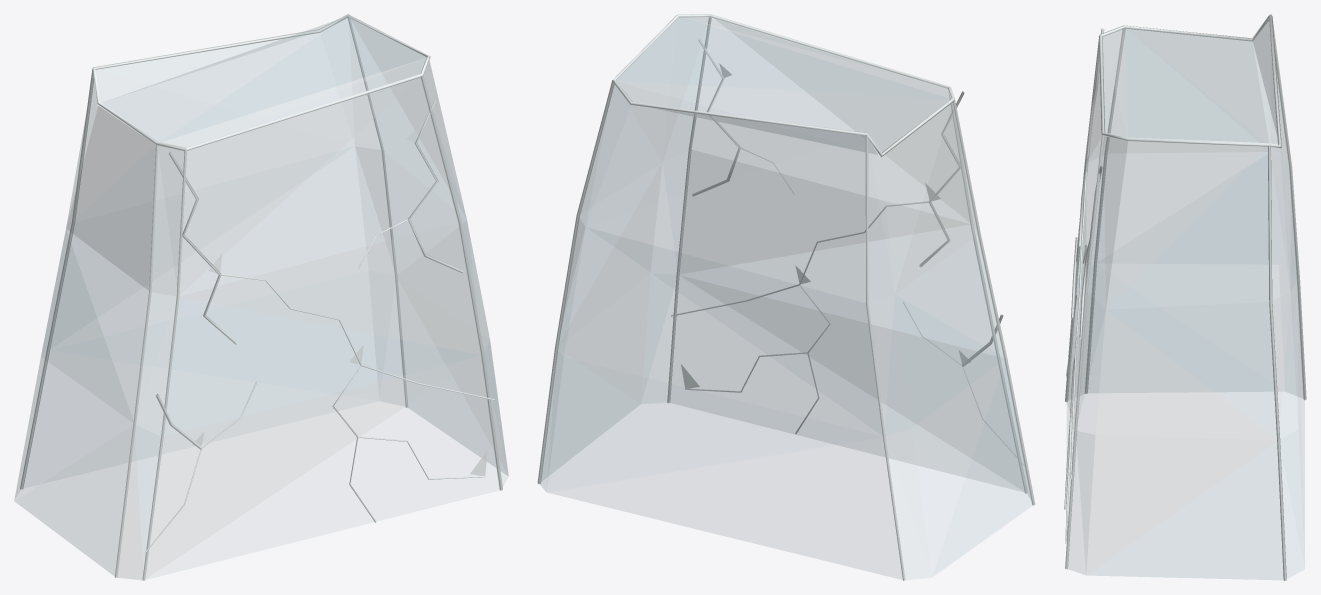
File: reference-ice.glb
3 views of the same model, side by side, from view 1: azimuth 30°, elevation 25°; view 2: azimuth 150°, elevation 25°; view 3: azimuth 270°, elevation 25° (orthographic). The views are drawn at different scales.
Visible parts, largest first — view 1: Faceted glacier, Crown ridge, Chipped outer edge 1, Chipped outer edge 5, Chipped outer edge 7, Chipped outer edge 0, Chipped outer edge 3, Branching fissure 0, Branching fissure 1, Branching fissure 3; view 2: Faceted glacier, Crown ridge, Chipped outer edge 3, Chipped outer edge 7, Chipped outer edge 0, Chipped outer edge 5, Chipped outer edge 1; view 3: Faceted glacier, Crown ridge, Chipped outer edge 3, Chipped outer edge 1, Chipped outer edge 5, Chipped outer edge 7, Branching fissure 0, Branching fissure 1, Chipped outer edge 0, Branching fissure 3.
Part boxes in pixels (box(x1,y1,x2,y2)): Faceted glacier: box(14, 16, 508, 579); Crown ridge: box(92, 14, 430, 151); Chipped outer edge 1: box(420, 75, 502, 490); Chipped outer edge 5: box(20, 68, 94, 489); Chipped outer edge 7: box(114, 144, 158, 577); Chipped outer edge 0: box(142, 149, 186, 580); Chipped outer edge 3: box(348, 17, 408, 407); Branching fissure 0: box(168, 151, 237, 344); Branching fissure 1: box(220, 274, 494, 400); Branching fissure 3: box(408, 100, 463, 273); Faceted glacier: box(540, 16, 1032, 579); Crown ridge: box(612, 14, 954, 157); Chipped outer edge 3: box(537, 80, 614, 484); Chipped outer edge 7: box(952, 99, 1035, 505); Chipped outer edge 0: box(948, 88, 1027, 493); Chipped outer edge 5: box(865, 134, 905, 580); Chipped outer edge 1: box(667, 17, 711, 403); Faceted glacier: box(1066, 19, 1304, 579); Crown ridge: box(1098, 14, 1281, 148); Chipped outer edge 3: box(1268, 145, 1286, 580); Chipped outer edge 1: box(1065, 134, 1104, 569); Chipped outer edge 5: box(1271, 16, 1306, 400); Chipped outer edge 7: box(1085, 28, 1125, 393); Branching fissure 0: box(1078, 28, 1104, 246); Branching fissure 1: box(1070, 172, 1086, 479); Chipped outer edge 0: box(1065, 36, 1100, 402); Branching fissure 3: box(1079, 166, 1102, 338).
Size of the model in its own units: 3.38 by 3.48 by 1.84.
